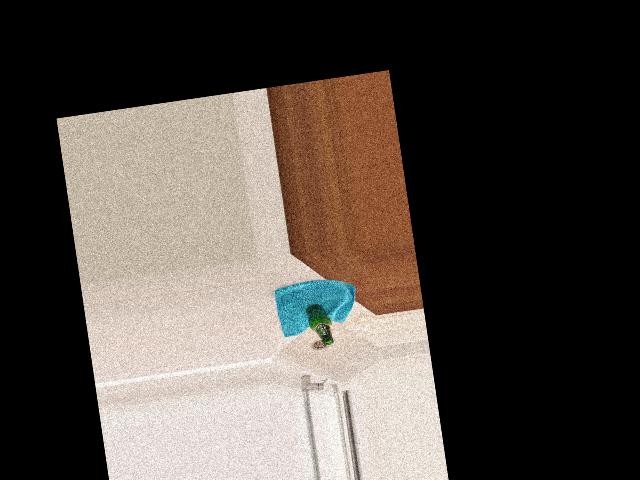beer: (305, 301, 334, 346)
